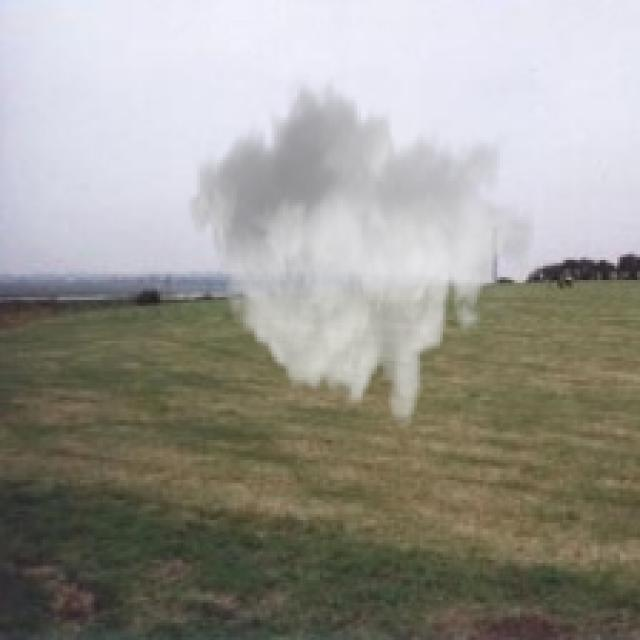Smoke: (186, 74, 534, 429)
